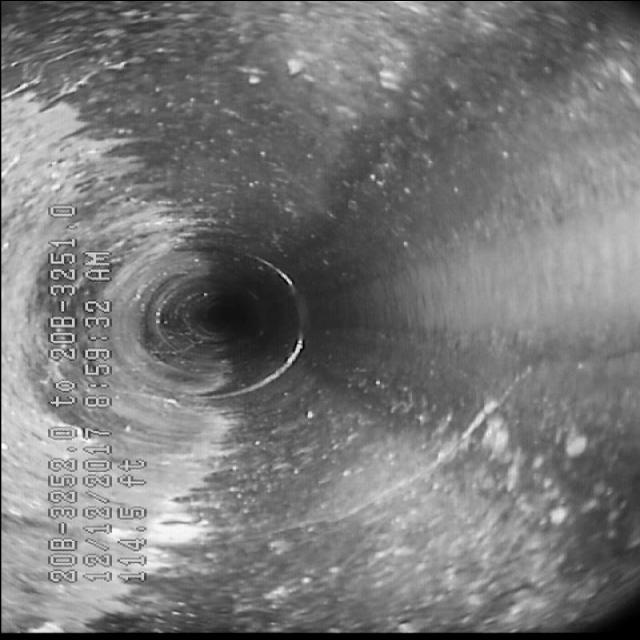Crack: (253, 423, 528, 538)
